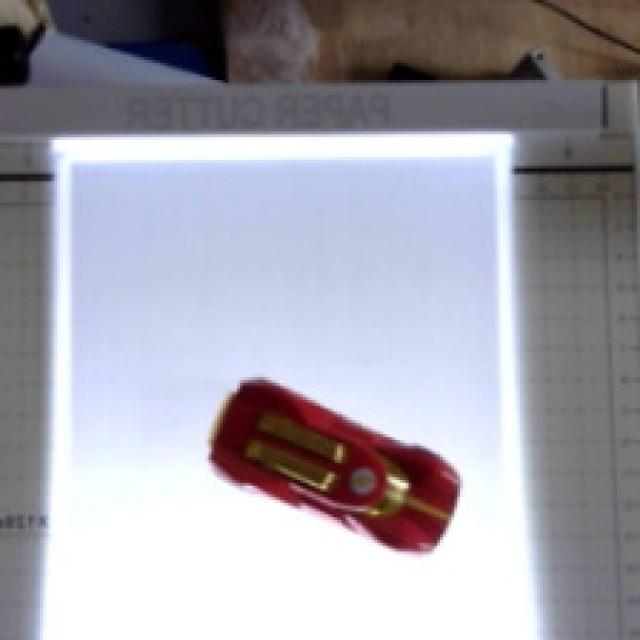Red Car: (190, 328, 474, 598)
